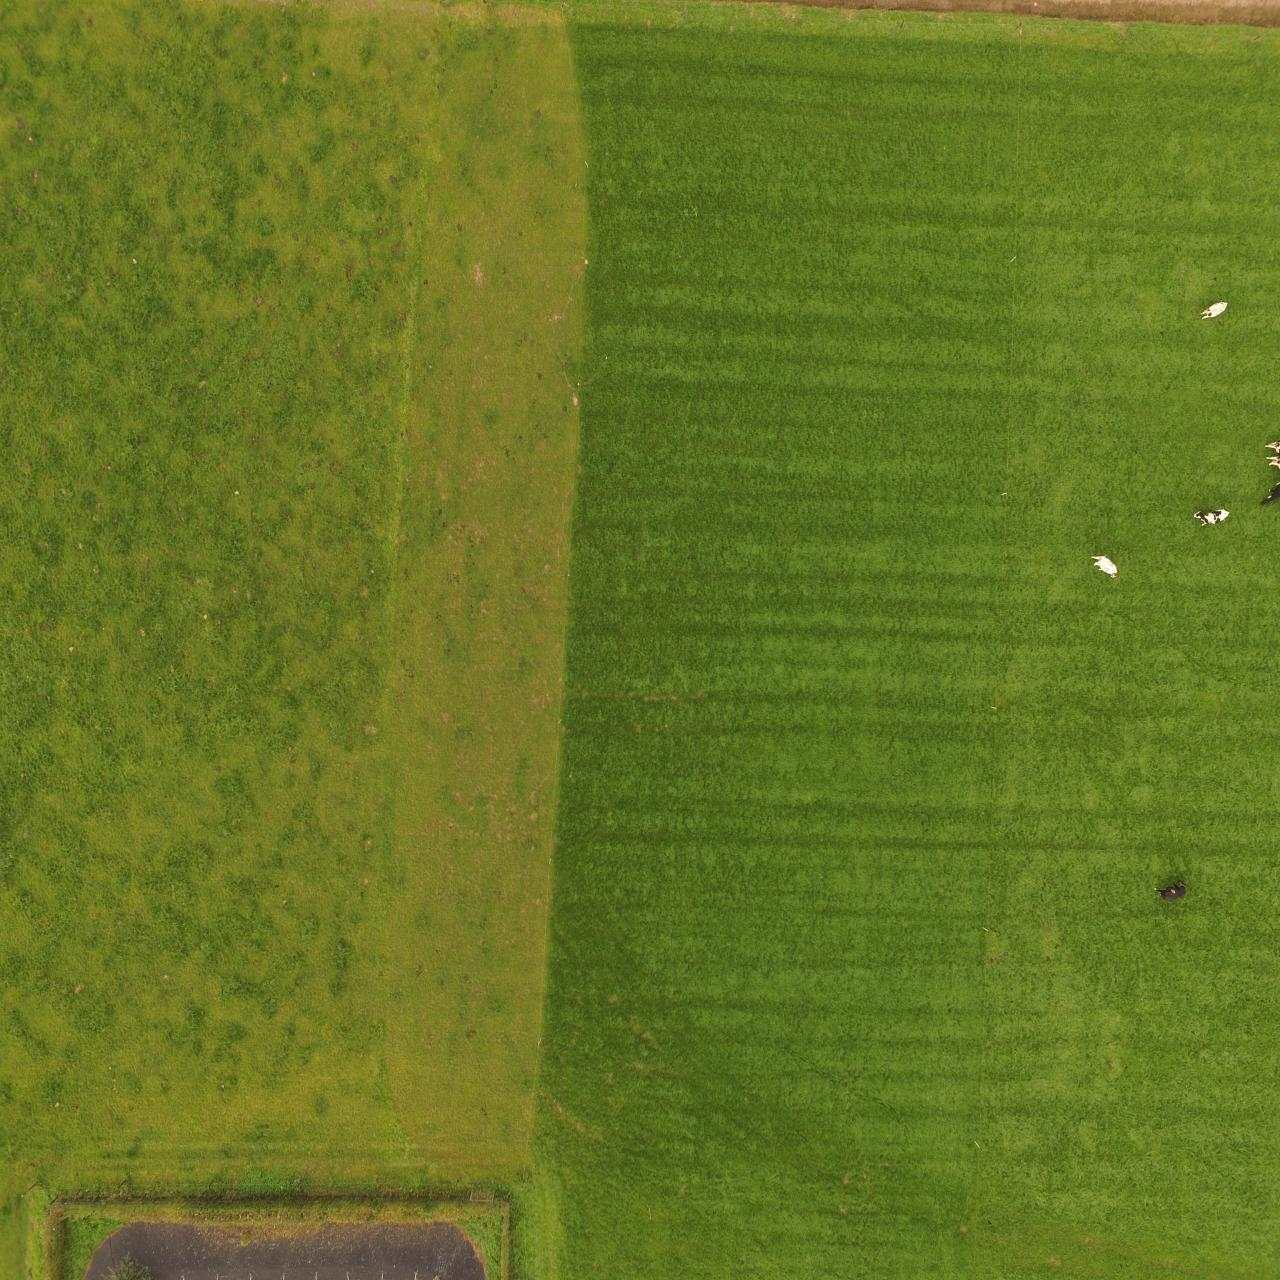cow: (1089, 550, 1123, 584), (1152, 879, 1187, 903), (1191, 510, 1233, 527), (1197, 299, 1228, 321)
